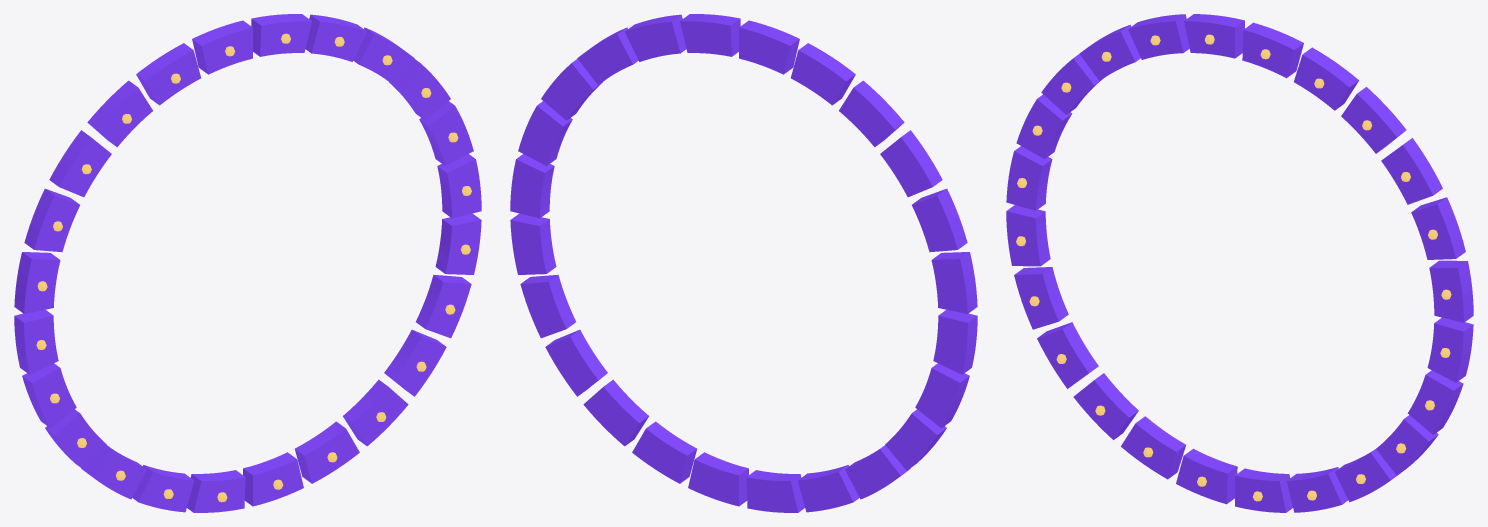
Rendered from prop_ring_gate.glb.
3 renders of one model, left to right at view 1: azimuth 30°, elevation 25°; view 2: azimuth 150°, elevation 25°; view 3: azimuth 330°, elevation 25°, orthographic.
Parts seen in each view (by area): view 1: prop_ring_gate; view 2: prop_ring_gate; view 3: prop_ring_gate.
Part boxes in pixels (x1,y1,x2,y2): prop_ring_gate: [14, 14, 481, 512]; prop_ring_gate: [510, 14, 977, 512]; prop_ring_gate: [1006, 14, 1473, 512].
Bounding box in the file's own units: 86.4 × 86.4 × 4.48.
